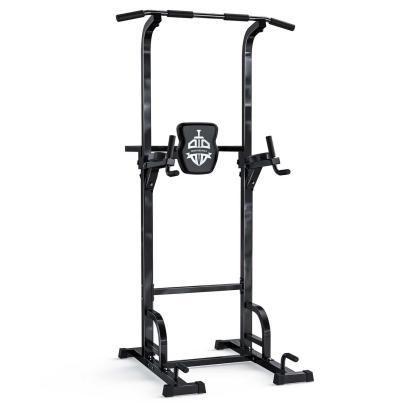chinning dipping: (117, 9, 315, 396)
